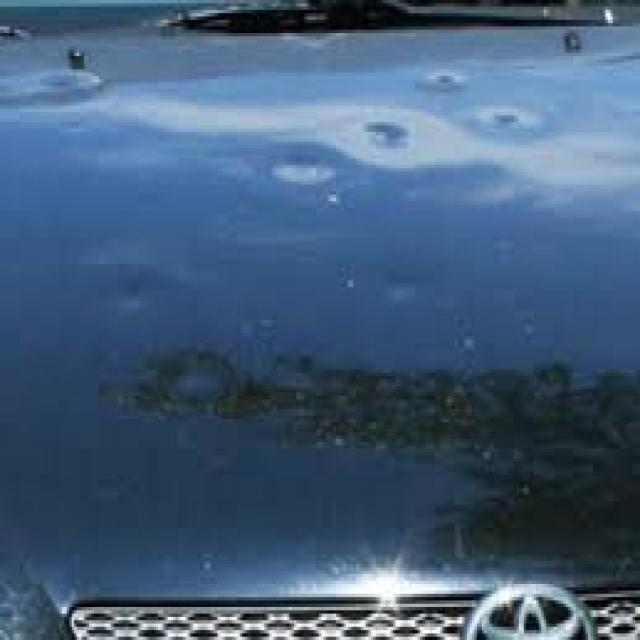minor: (182, 93, 590, 442)
